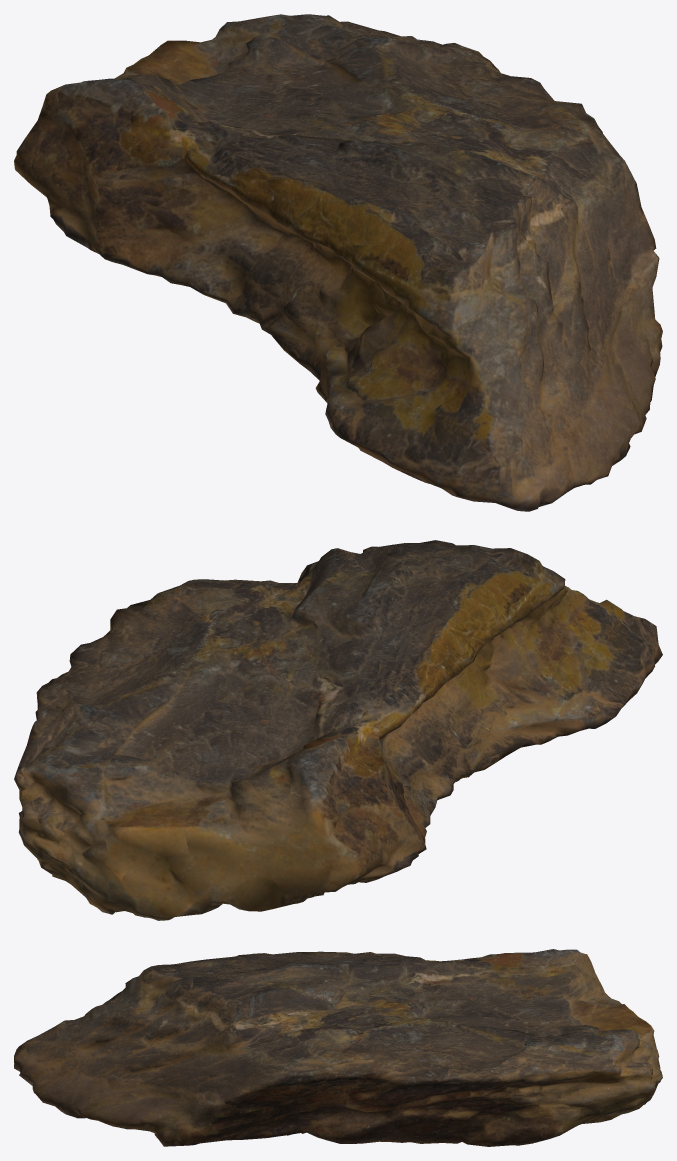
The model's file is bg_rock_09.glb.
3 renders of one model, top to bottom at view 1: azimuth 30°, elevation 25°; view 2: azimuth 150°, elevation 25°; view 3: azimuth 270°, elevation 25°, orthographic. The views are drawn at different scales.
Parts seen in each view (by area): view 1: bg_rock_09; view 2: bg_rock_09; view 3: bg_rock_09.
Part boxes in pixels (x1,y1,x2,y2): bg_rock_09: (14,14,662,511); bg_rock_09: (14,540,662,920); bg_rock_09: (14,949,662,1146).
Size of the model in its own units: 1.28 by 0.5684 by 2.5.
1 material, 1 textured.
